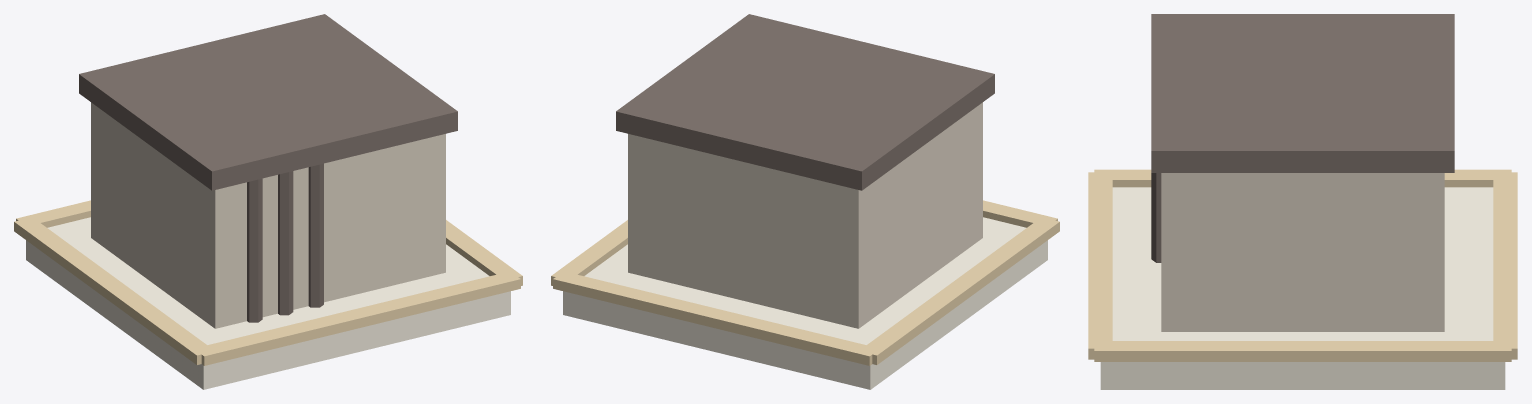
Rendered from city.jail.glb.
3 views of the same model, side by side, from view 1: azimuth 30°, elevation 25°; view 2: azimuth 150°, elevation 25°; view 3: azimuth 270°, elevation 25° (orthographic). The views are drawn at different scales.
Visible parts, largest first — view 1: city.jail; view 2: city.jail; view 3: city.jail.
Part boxes in pixels (x1,y1,x2,y2): city.jail: (14,14,522,389); city.jail: (551,14,1059,389); city.jail: (1088,14,1517,389).
Bounding box in the file's own units: 2.12 × 1.21 × 2.12.
